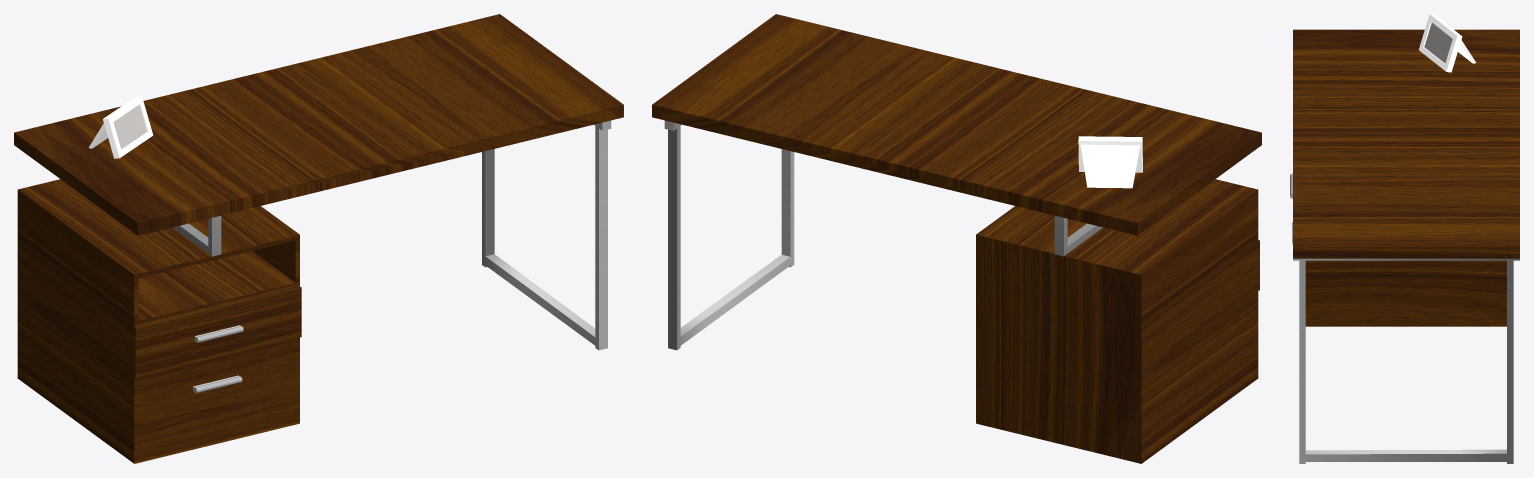
The model's file is WoodOfficeDesk.glb.
3 views of the same model, side by side, from view 1: azimuth 30°, elevation 25°; view 2: azimuth 150°, elevation 25°; view 3: azimuth 270°, elevation 25° (orthographic). The views are drawn at different scales.
Parts seen in each view (by area): view 1: Desk, Drawers, Frame; view 2: Desk, Drawers, Frame; view 3: Desk, Drawers, Frame.
Boxes of the visible parts, left/top/right/bottom form: Desk: left=14, top=14, right=623, bottom=350; Drawers: left=17, top=179, right=301, bottom=463; Frame: left=88, top=95, right=153, bottom=158; Desk: left=652, top=14, right=1261, bottom=350; Drawers: left=976, top=179, right=1259, bottom=463; Frame: left=1078, top=136, right=1142, bottom=188; Desk: left=1293, top=29, right=1519, bottom=463; Drawers: left=1305, top=260, right=1506, bottom=326; Frame: left=1418, top=14, right=1476, bottom=72.
Size of the model in its own units: 0.0595 by 0.033 by 0.0266.
6 materials, 3 textured.
